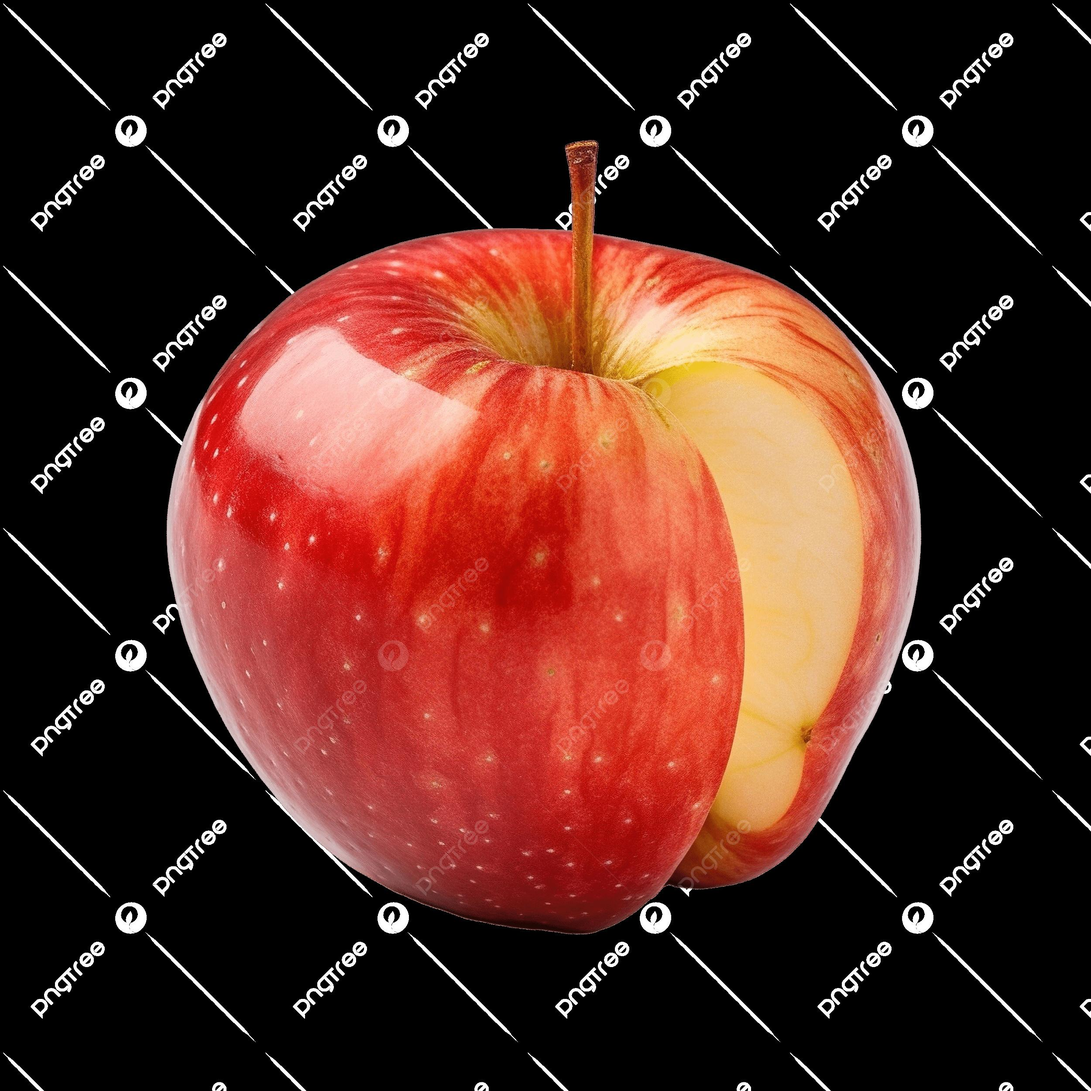apples: (111, 201, 930, 990)
